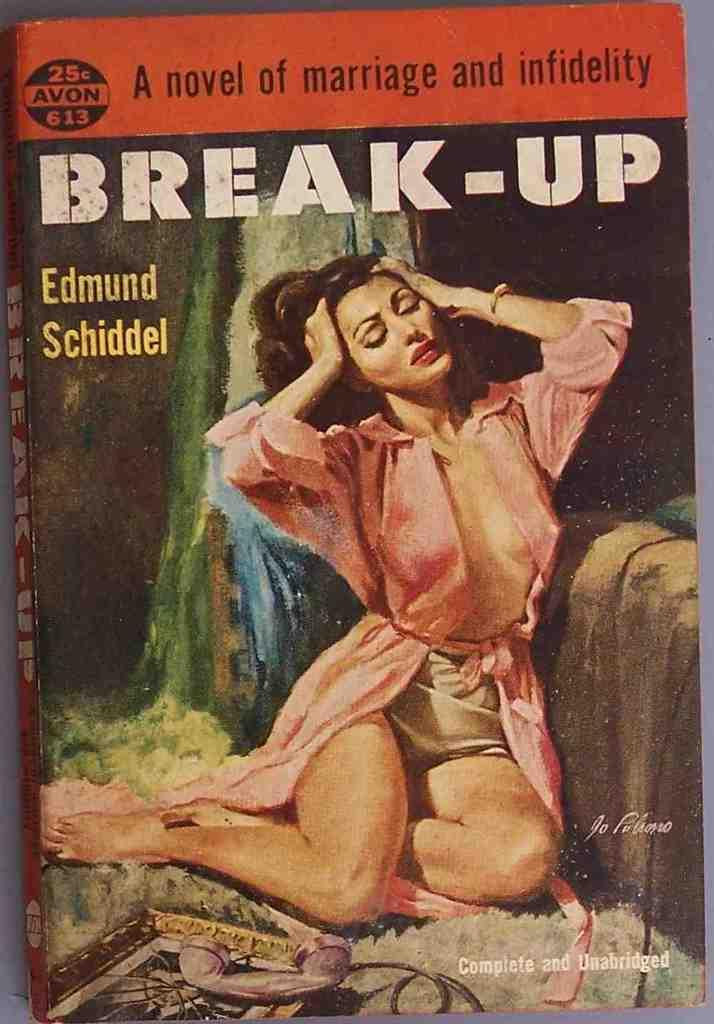book: (0, 0, 693, 1023)
